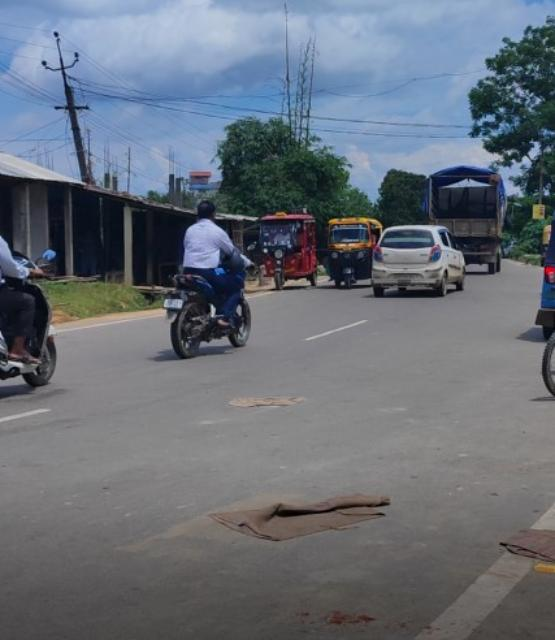licensePlate: (160, 299, 186, 310)
motorcycle: (160, 198, 254, 360), (0, 225, 57, 387)
withoutHelmet: (196, 200, 218, 222)
